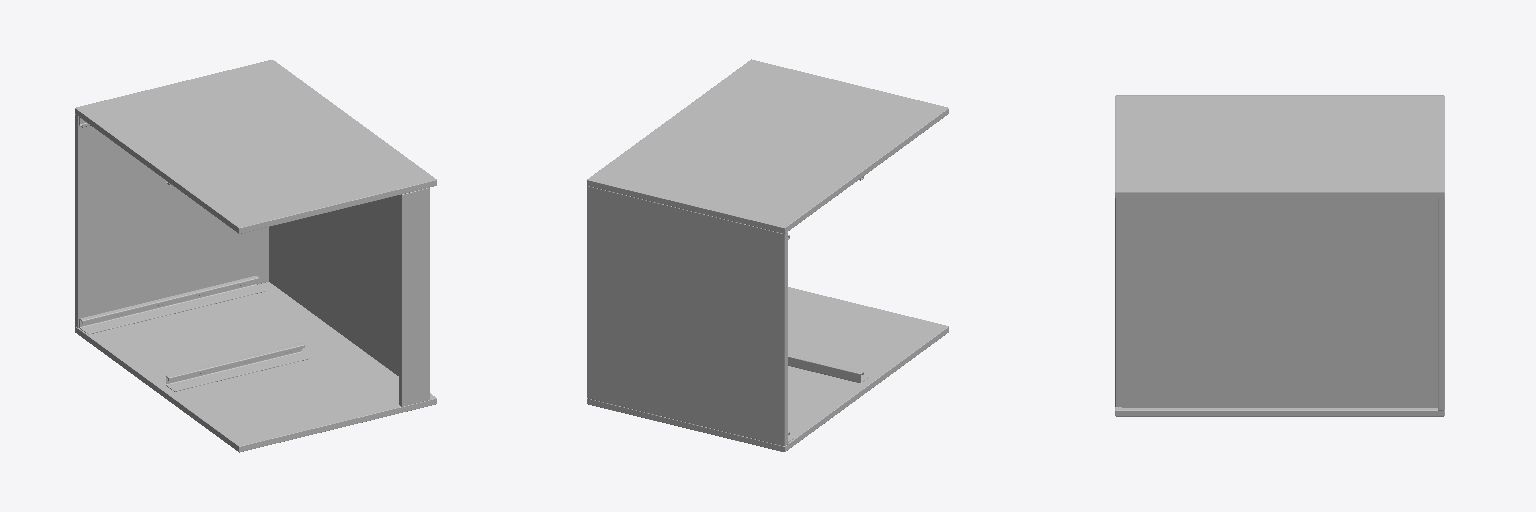
Rendered from SM_Kitchen_08_Sink_Base.obj.
3 views of the same model, side by side, from view 1: azimuth 30°, elevation 25°; view 2: azimuth 150°, elevation 25°; view 3: azimuth 270°, elevation 25° (orthographic).
Visible parts, largest first — view 1: SM_Kitchen_08_Sink_Base; view 2: SM_Kitchen_08_Sink_Base; view 3: SM_Kitchen_08_Sink_Base.
Part boxes in pixels (left/top/right/bottom): SM_Kitchen_08_Sink_Base: left=75, top=60, right=436, bottom=452; SM_Kitchen_08_Sink_Base: left=587, top=59, right=948, bottom=451; SM_Kitchen_08_Sink_Base: left=1115, top=95, right=1444, bottom=416.
Size of the model in its own units: 0.5549 by 0.5999 by 0.798.